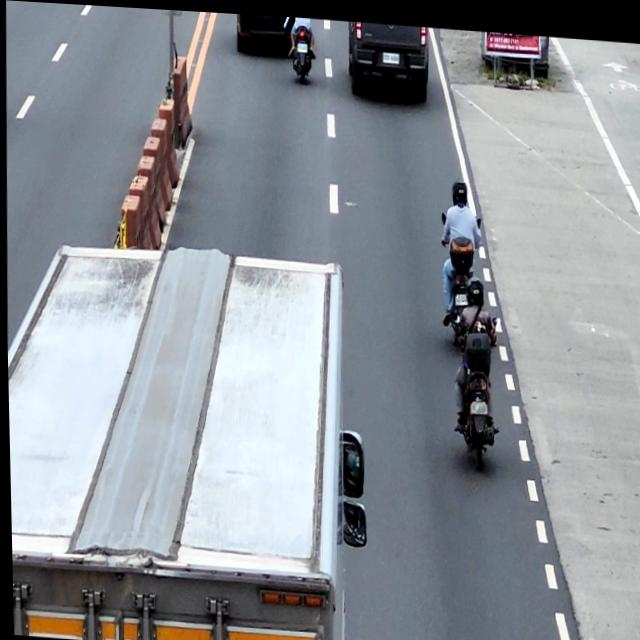Car: (346, 17, 431, 97)
License-Plate: (467, 393, 486, 409), (381, 46, 399, 60), (452, 287, 467, 300), (296, 38, 307, 49)
Motorcycle: (448, 306, 502, 469), (438, 203, 483, 347), (290, 19, 315, 80)
Truck: (4, 233, 370, 640)
